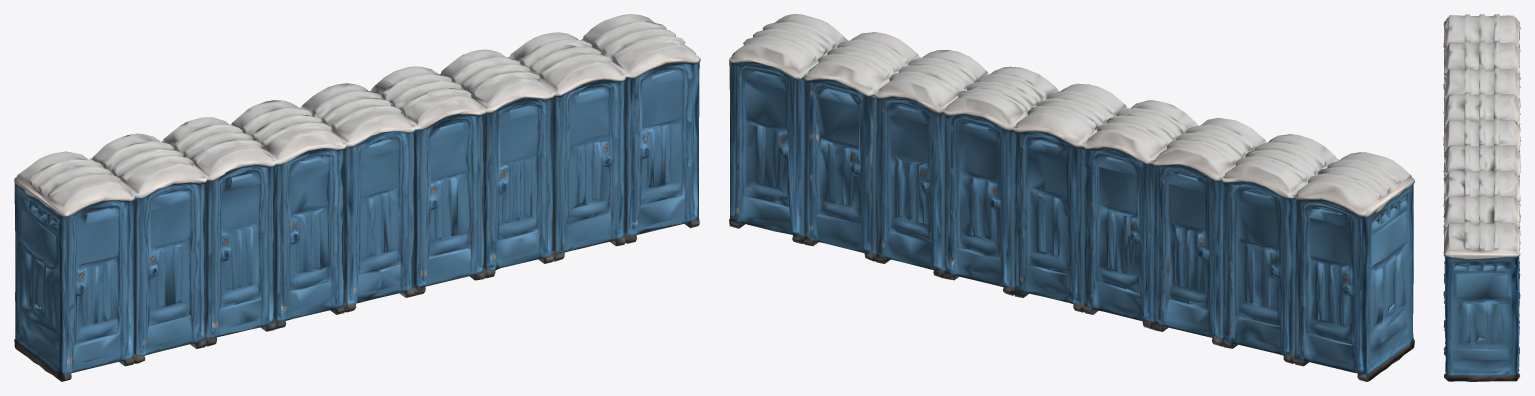
File: toilets.glb
The picture shows the model from 3 angles, left to right: view 1: azimuth 30°, elevation 25°; view 2: azimuth 150°, elevation 25°; view 3: azimuth 270°, elevation 25°; orthographic projection. The views are drawn at different scales.
Parts seen in each view (by area): view 1: tripo_node_16792263-e07b-4833-a2c5-10950a8a6352; view 2: tripo_node_16792263-e07b-4833-a2c5-10950a8a6352; view 3: tripo_node_16792263-e07b-4833-a2c5-10950a8a6352.
Part boxes in pixels (x1,y1,x2,y2): tripo_node_16792263-e07b-4833-a2c5-10950a8a6352: (14, 14, 700, 381); tripo_node_16792263-e07b-4833-a2c5-10950a8a6352: (729, 14, 1414, 381); tripo_node_16792263-e07b-4833-a2c5-10950a8a6352: (1443, 14, 1520, 381).
Bounding box in the file's own units: 1 × 0.281 × 0.139.
Materials: 1 (1 with a texture image).
